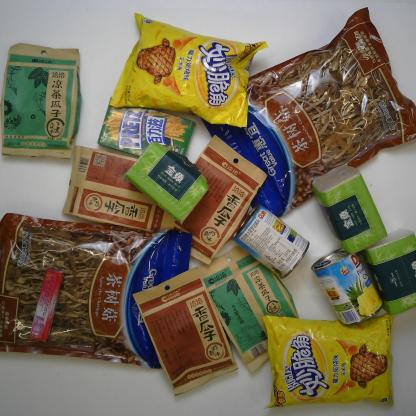Candy: (29, 266, 64, 343)
Canned Food: (231, 202, 310, 279), (310, 246, 384, 327)
Dessert: (97, 96, 196, 165)
Dried Food: (199, 6, 416, 219), (0, 212, 192, 370), (160, 133, 268, 266), (132, 266, 239, 398), (197, 244, 300, 374), (62, 145, 177, 235), (0, 41, 82, 160)
Puffed Food: (108, 13, 268, 130), (262, 312, 394, 410)
Tissue: (123, 140, 209, 226), (312, 163, 388, 255), (363, 228, 416, 315)
